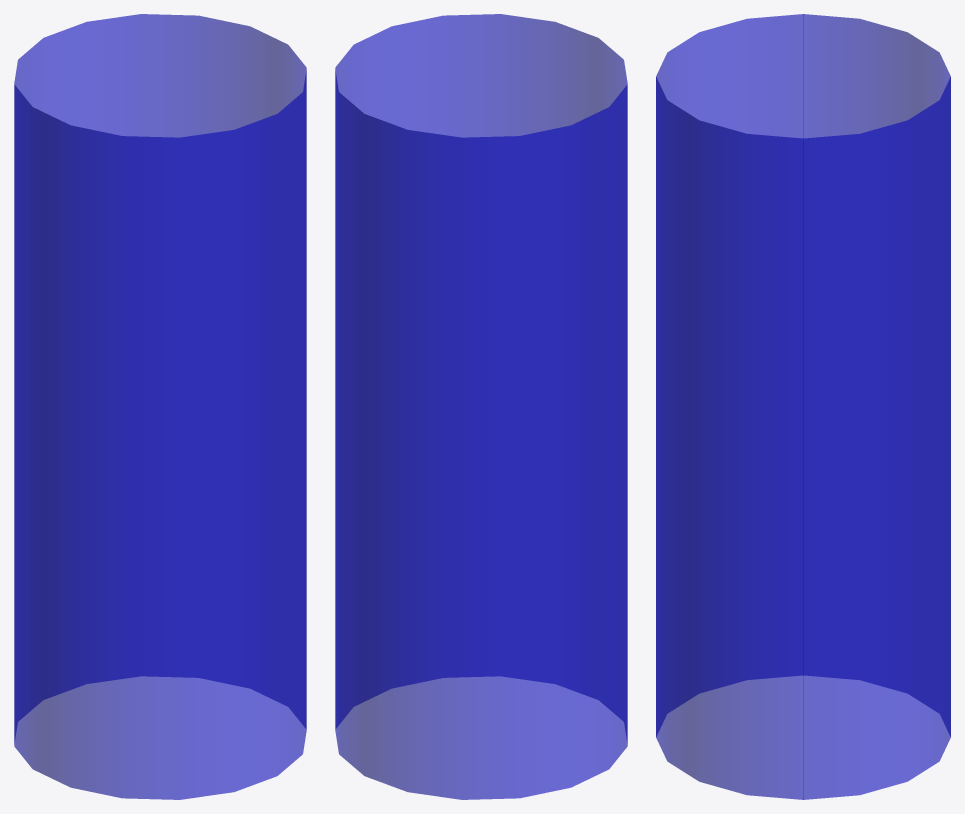
File: Vidro.fbx
3 renders of one model, left to right at view 1: azimuth 30°, elevation 25°; view 2: azimuth 150°, elevation 25°; view 3: azimuth 270°, elevation 25°, orthographic.
Visible parts, largest first — view 1: Cylinder; view 2: Cylinder; view 3: Cylinder.
Part boxes in pixels (left/top/right/bottom): Cylinder: left=14, top=14, right=306, bottom=799; Cylinder: left=335, top=14, right=627, bottom=799; Cylinder: left=656, top=14, right=950, bottom=799.
Size of the model in its own units: 84.8 by 210 by 84.8.
